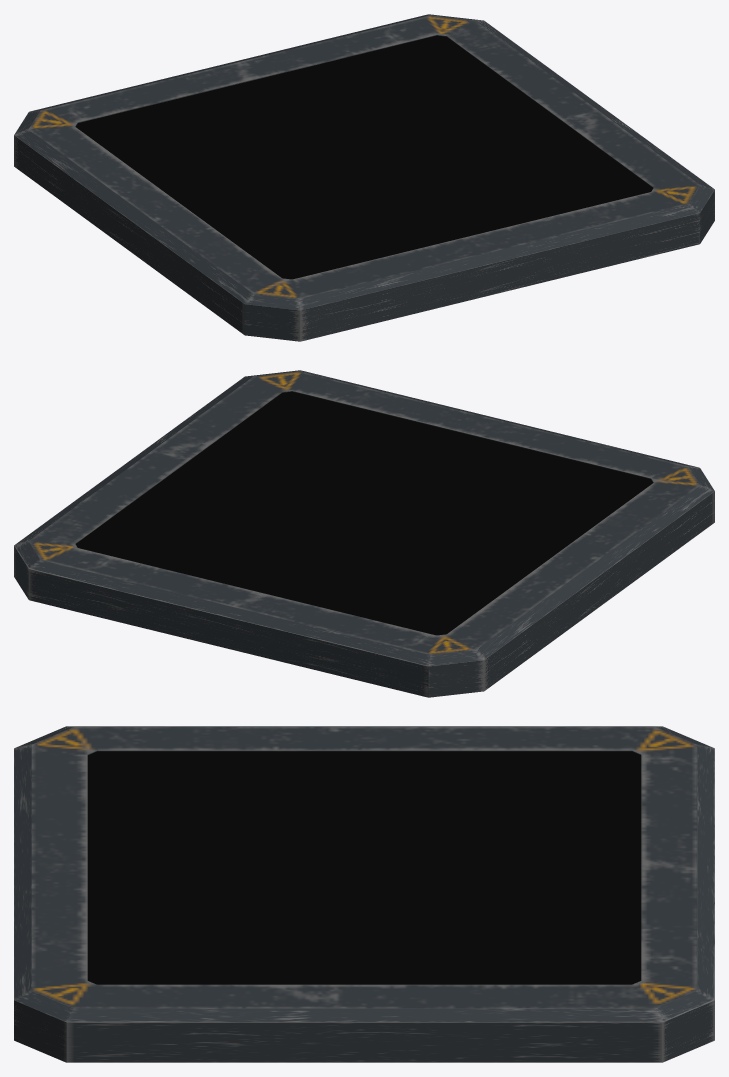
File: robotfact.glb
The picture shows the model from 3 angles, top to bottom: view 1: azimuth 30°, elevation 25°; view 2: azimuth 150°, elevation 25°; view 3: azimuth 270°, elevation 25°; orthographic projection. The views are drawn at different scales.
Parts seen in each view (by area): view 1: Platform_Cube (×2); view 2: Platform_Cube (×2); view 3: Platform_Cube (×2).
Part boxes in pixels (box(x1,y1,x2,y2)): Platform_Cube (×2): box(14, 14, 714, 341); Platform_Cube (×2): box(14, 370, 714, 697); Platform_Cube (×2): box(14, 726, 714, 1062).
Size of the model in its own units: 11.43 by 0.9643 by 11.43.
Materials: 2 (2 with a texture image).
